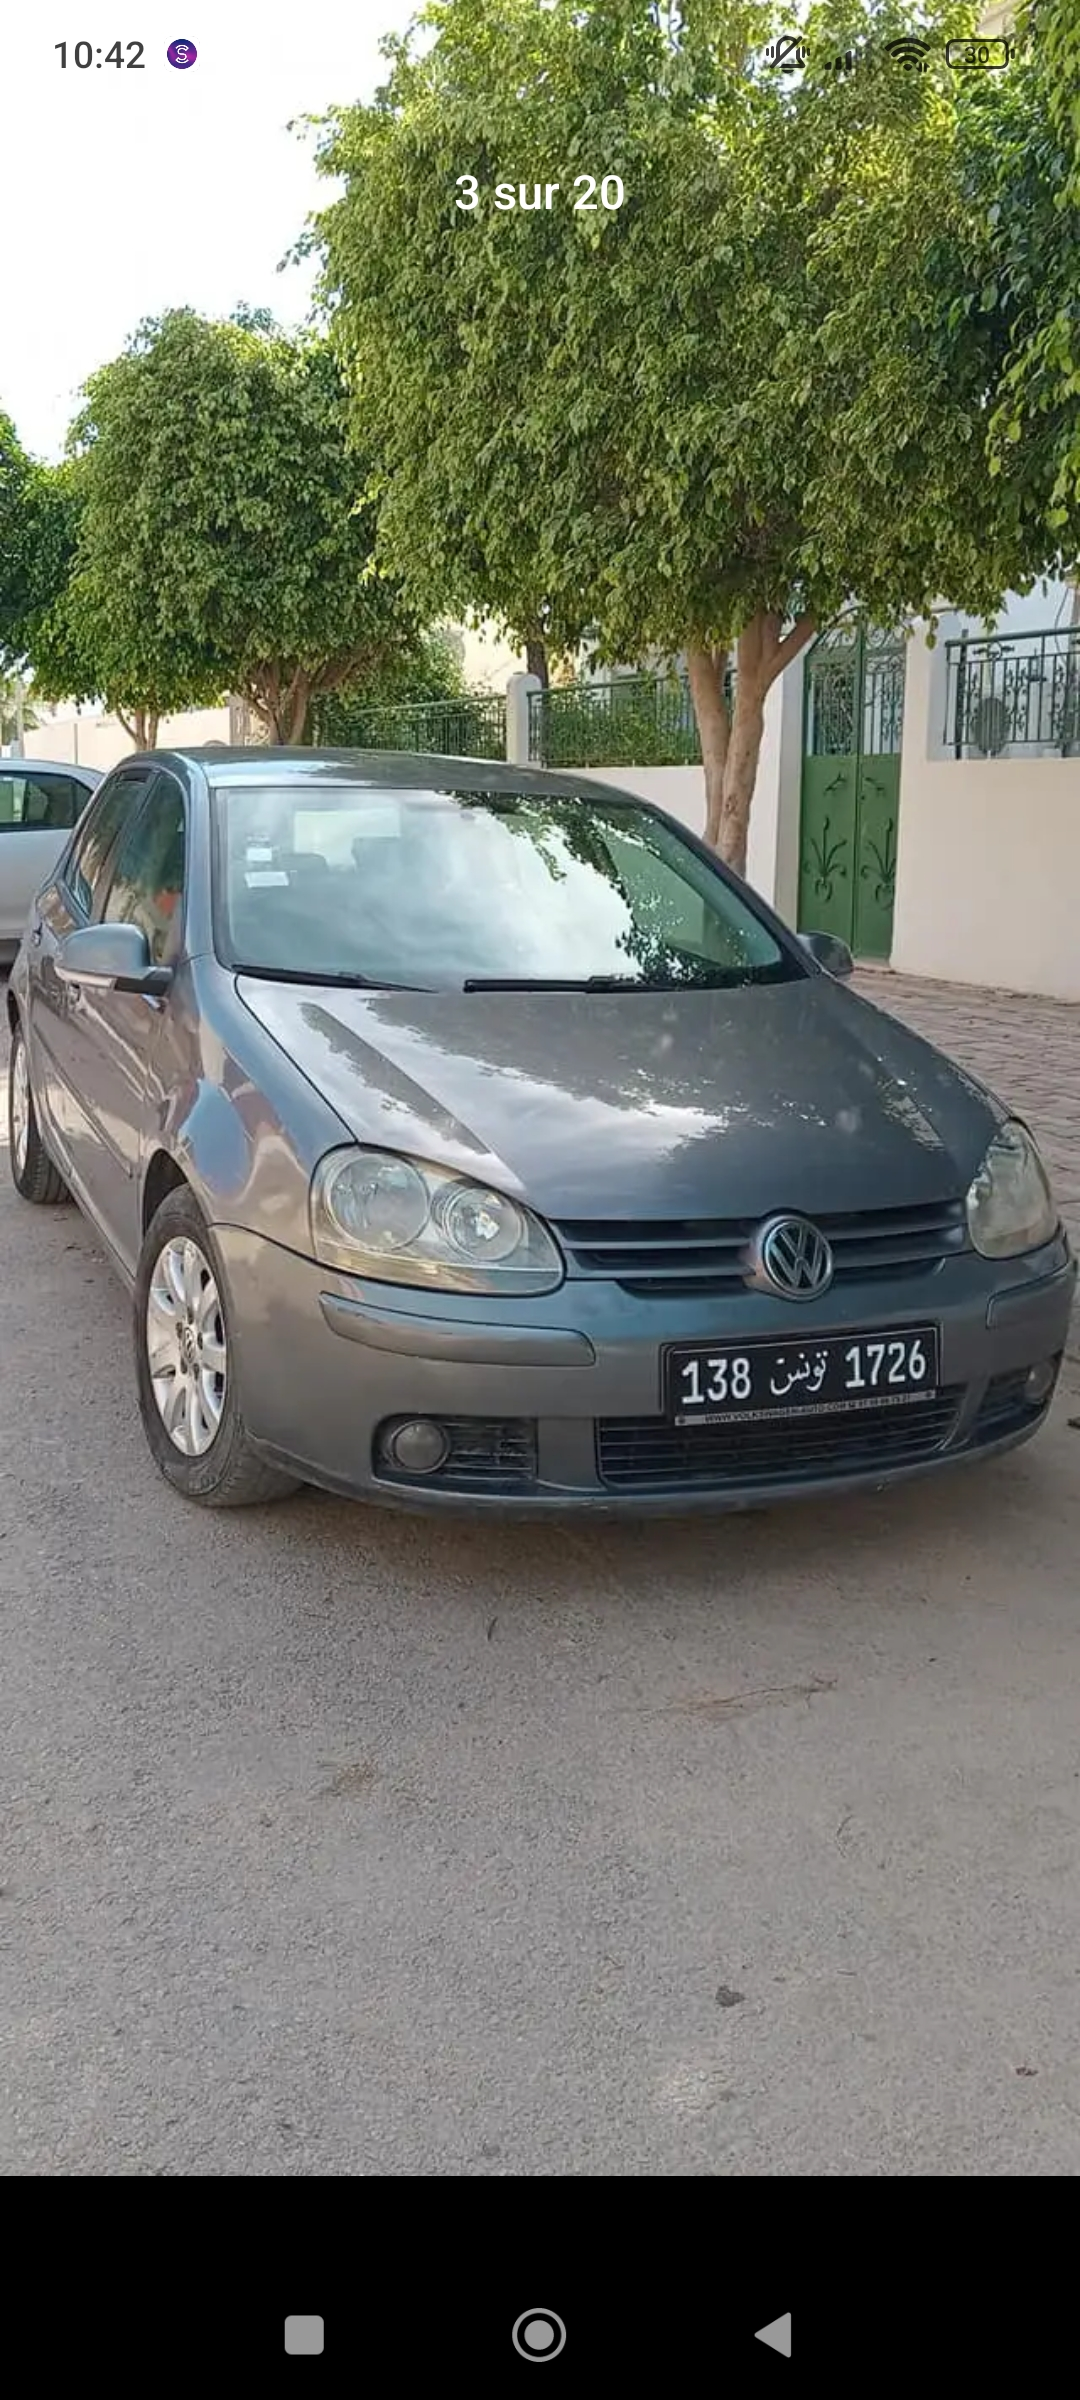volkswagen: (15, 756, 1069, 1546)
